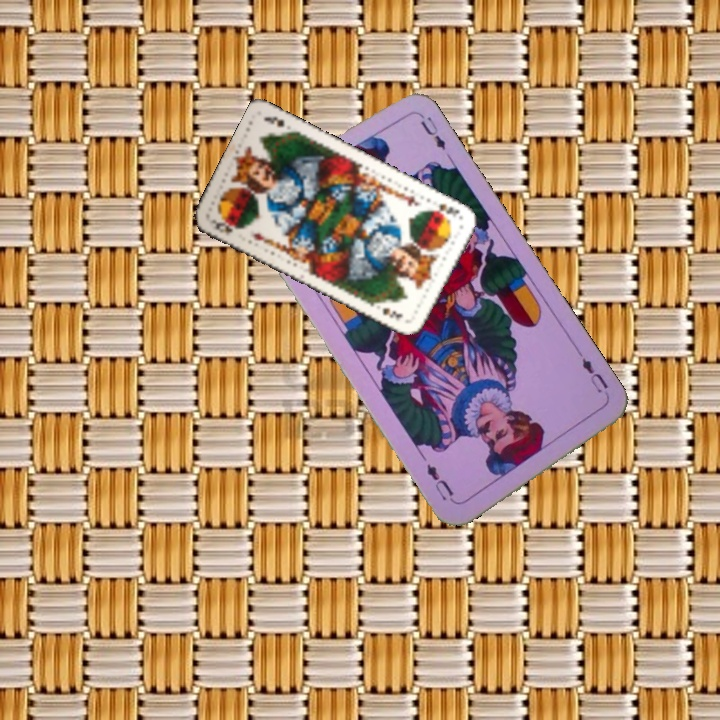EU: (574, 348, 612, 402)
SK: (425, 199, 462, 220), (206, 215, 241, 236)
